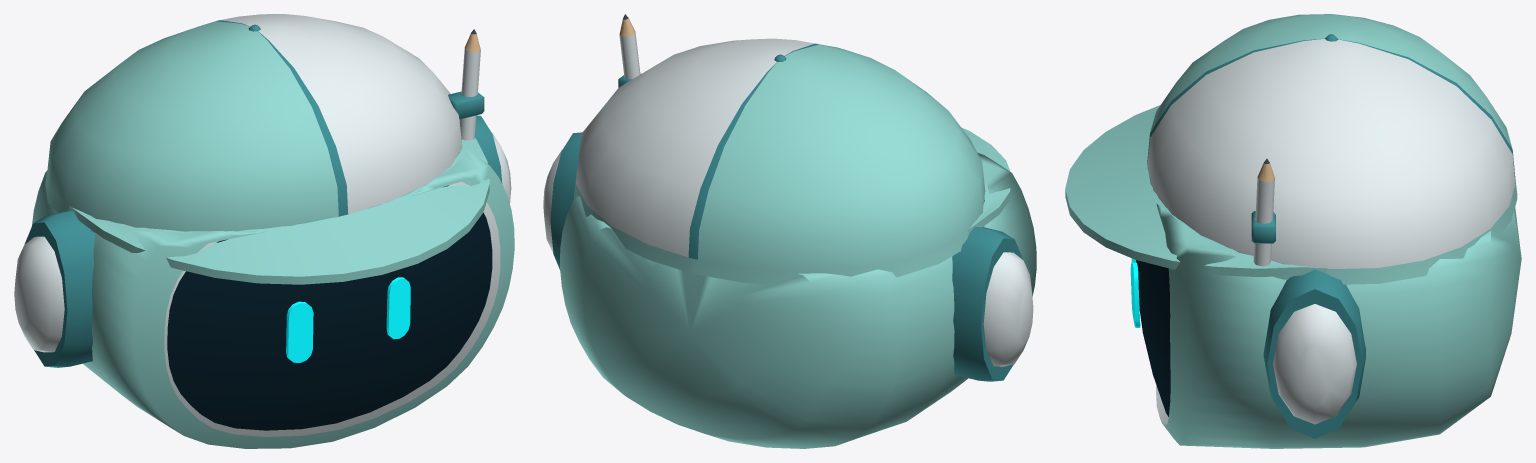
Rendered from copilot_analyst_v01.glb.
The picture shows the model from 3 angles, left to right: view 1: azimuth 30°, elevation 25°; view 2: azimuth 150°, elevation 25°; view 3: azimuth 270°, elevation 25°; orthographic projection. The views are drawn at different scales.
Parts seen in each view (by area): view 1: analyst_model; view 2: analyst_model; view 3: analyst_model.
Part boxes in pixels (x1,y1,x2,y2): analyst_model: (14,14,514,448); analyst_model: (543,14,1036,448); analyst_model: (1065,14,1521,448).
Size of the model in its own units: 2.82 by 2.02 by 2.23.
Materials: 2 (2 with a texture image).
